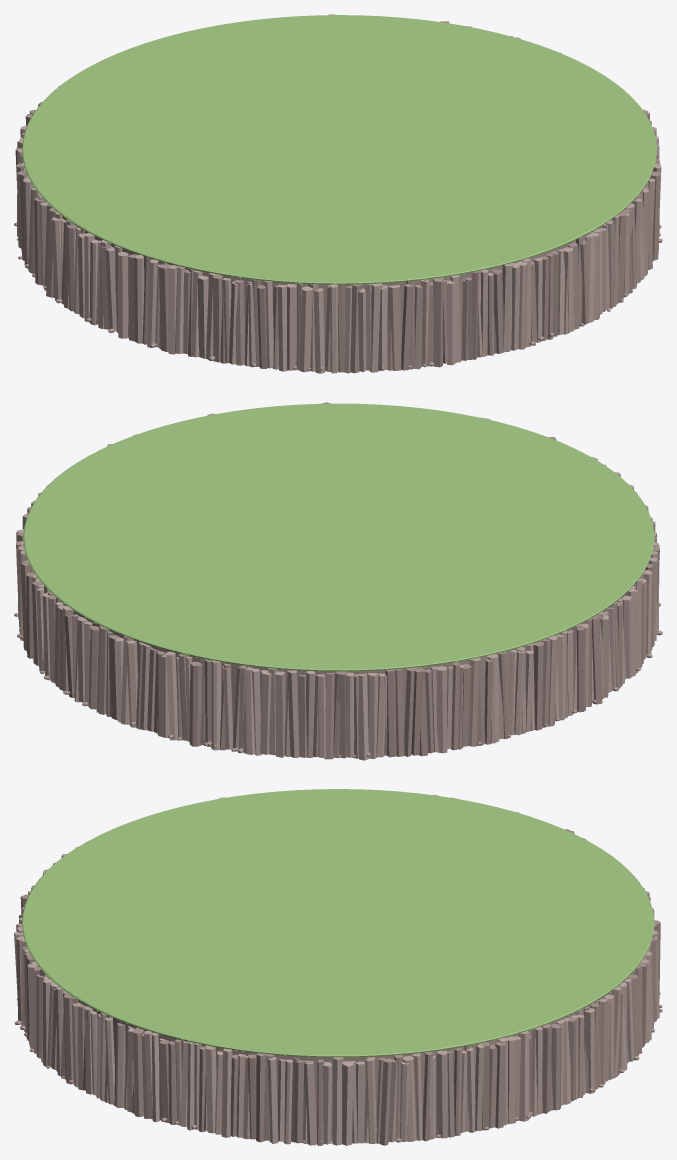
File: HOB_Island_Main.fbx
The picture shows the model from 3 angles, top to bottom: view 1: azimuth 30°, elevation 25°; view 2: azimuth 150°, elevation 25°; view 3: azimuth 270°, elevation 25°; orthographic projection.
Parts seen in each view (by area): view 1: HOB_Island_Main; view 2: HOB_Island_Main; view 3: HOB_Island_Main.
Part boxes in pixels (<box>): HOB_Island_Main: <box>14,14,662,373</box>; HOB_Island_Main: <box>14,402,662,760</box>; HOB_Island_Main: <box>14,789,662,1145</box>.
Bounding box in the file's own units: 20611 × 5600 × 20619.
